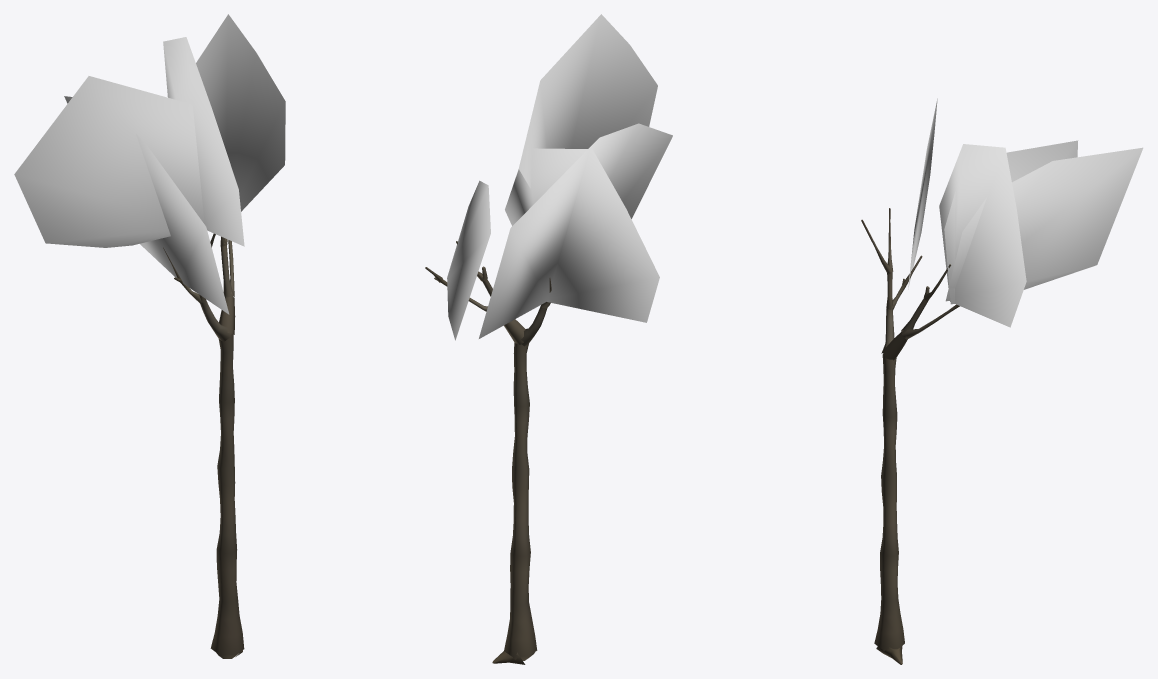
Rendered from slender_3.glb.
3 views of the same model, side by side, from view 1: azimuth 30°, elevation 25°; view 2: azimuth 150°, elevation 25°; view 3: azimuth 270°, elevation 25° (orthographic). The views are drawn at different scales.
Parts seen in each view (by area): view 1: slender_3; view 2: slender_3; view 3: slender_3.
Part boxes in pixels (box(x1,y1,x2,y2)): slender_3: box(14, 14, 285, 658); slender_3: box(425, 14, 672, 664); slender_3: box(861, 98, 1143, 664).
Bounding box in the file's own units: 3.8 × 6.97 × 4.12.
